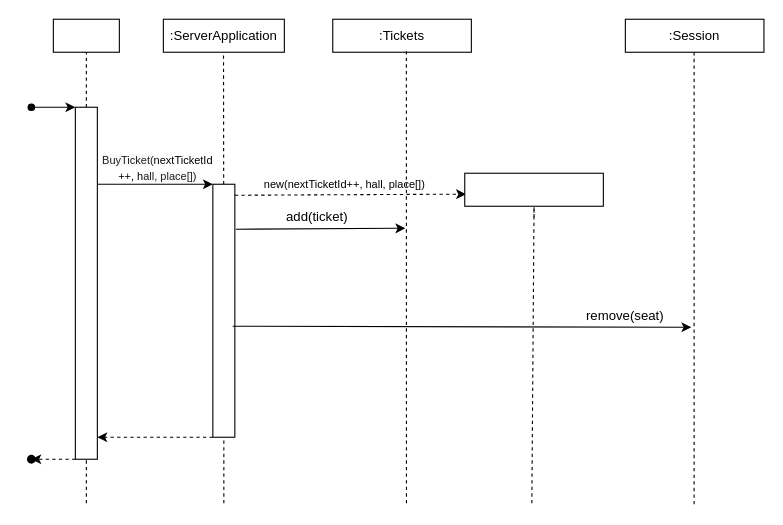
The diagram is 783 pixels wide and 525 high, and some of its shapes have lost their labels. The centre of each missing label's shape, as x and y in pixels:
":CashBox" belongs at (x=85, y=35).
"ticket:Ticket" belongs at (x=533, y=189).
